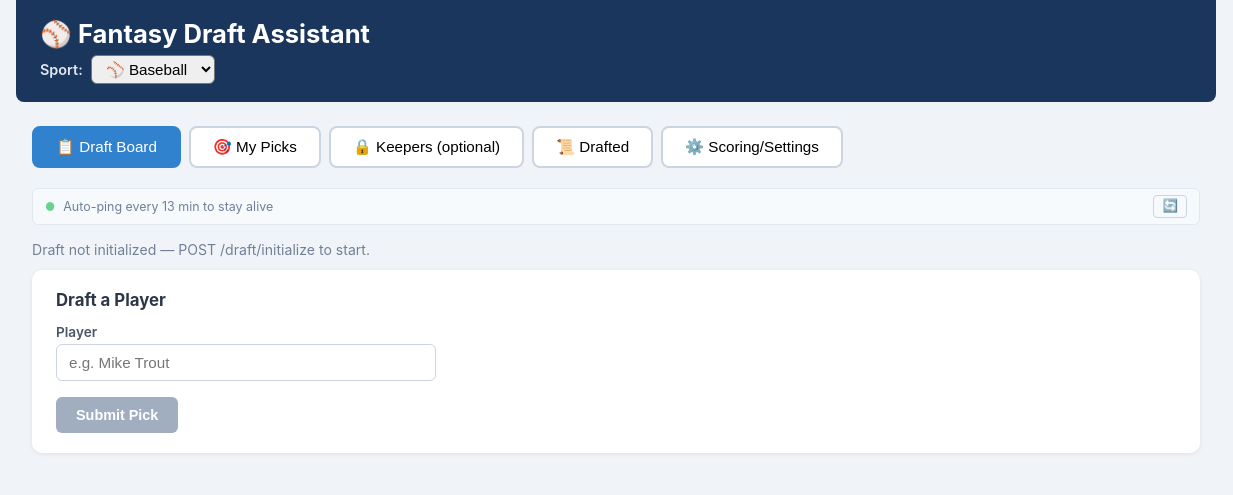
Scenario: Draft tab — submit pick › shows "Will pick:" hint when results exist without explicit selection
Type "Mi" into the field with placeholder "e.g. Mike Trout" at {"x": 246, "y": 363}, box x1=56 y1=344 x2=436 y2=382
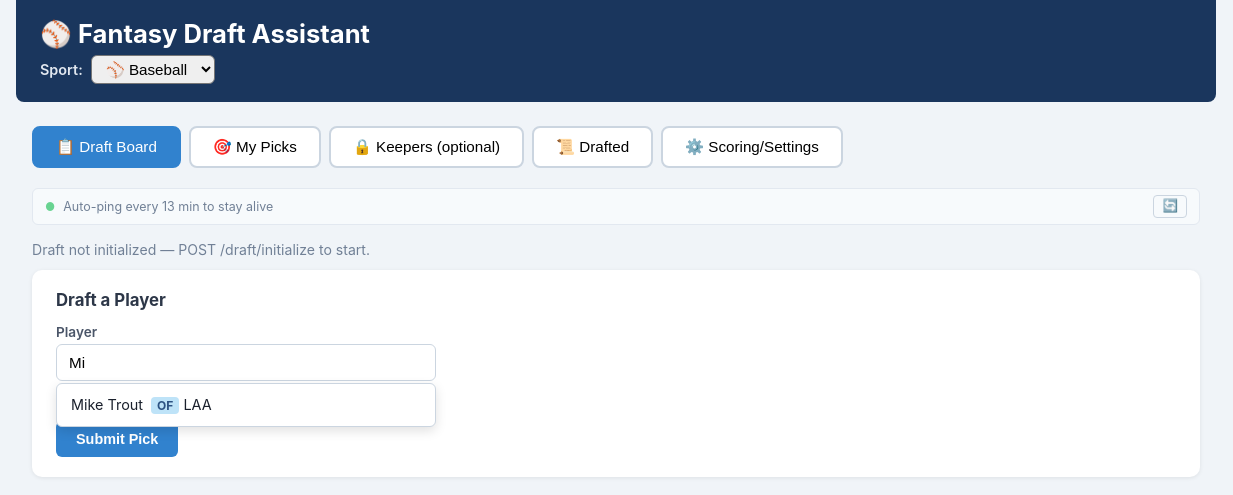
Expected: the text with test id "pending-pick-hint" reads "Will pick: Mike Trout", x1=56 y1=394 x2=181 y2=410
